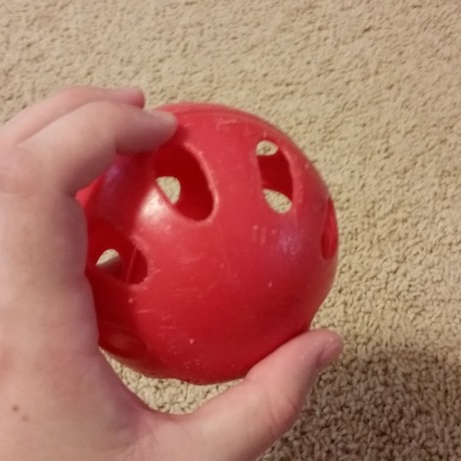redball: (70, 97, 344, 387)
